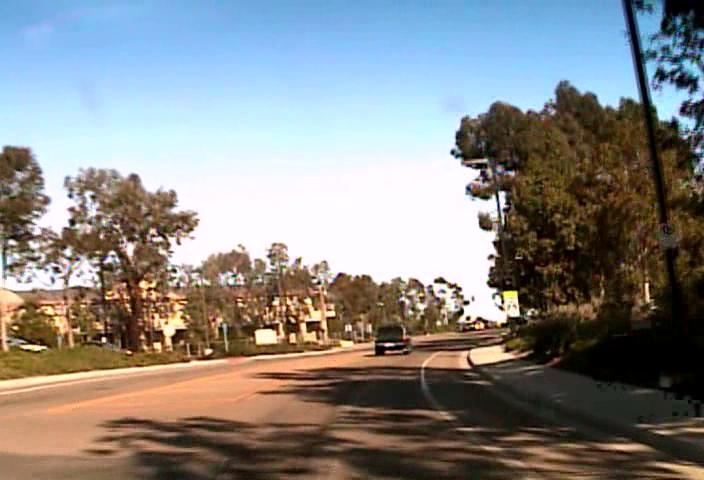schoolSpeedLimit25: (502, 290, 519, 317)
